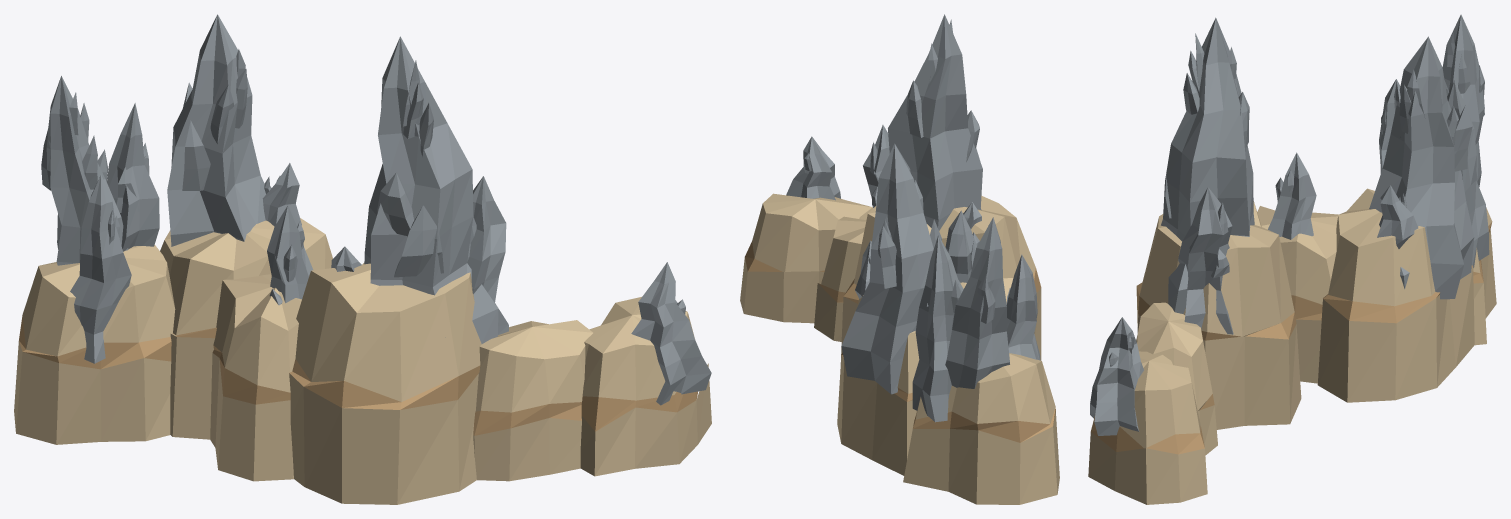
3 views of the same model, side by side, from view 1: azimuth 30°, elevation 25°; view 2: azimuth 150°, elevation 25°; view 3: azimuth 270°, elevation 25° (orthographic). The views are drawn at different scales.
Visible parts, largest first — view 1: black-spire-outpost-spires-walt-disney-world; view 2: black-spire-outpost-spires-walt-disney-world; view 3: black-spire-outpost-spires-walt-disney-world.
Part boxes in pixels (x1,y1,x2,y2): black-spire-outpost-spires-walt-disney-world: [14, 14, 711, 504]; black-spire-outpost-spires-walt-disney-world: [740, 14, 1059, 504]; black-spire-outpost-spires-walt-disney-world: [1088, 14, 1496, 504].
Bounding box in the file's own units: 53.75 × 41 × 40.83.
